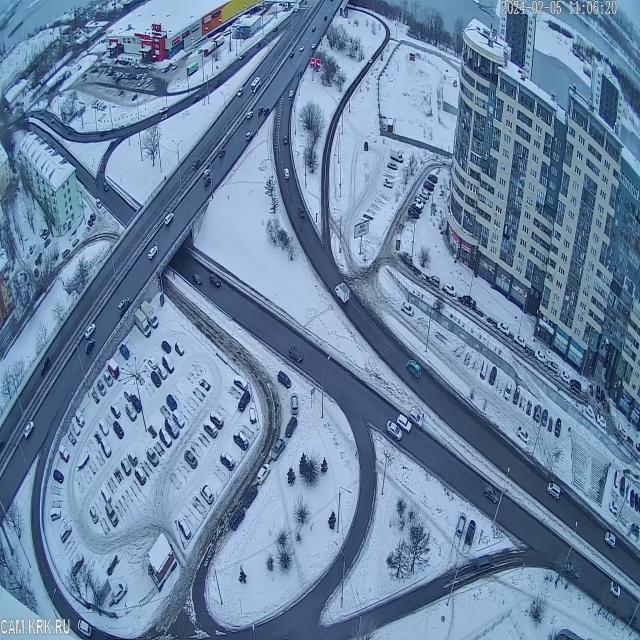car: (134, 308, 152, 339), (141, 301, 159, 330), (102, 500, 119, 530), (562, 557, 580, 582), (396, 410, 412, 437), (334, 280, 350, 307), (385, 420, 403, 443), (164, 413, 179, 440), (233, 428, 249, 453), (242, 484, 258, 509), (287, 342, 304, 365), (409, 406, 424, 432), (406, 356, 422, 380), (112, 582, 128, 606), (76, 616, 92, 640), (69, 552, 84, 577), (484, 481, 499, 506), (230, 508, 245, 532), (220, 450, 235, 473), (454, 512, 467, 538), (234, 370, 248, 394), (256, 463, 270, 487), (99, 483, 113, 507), (158, 428, 173, 450), (272, 439, 285, 464), (107, 357, 120, 382), (178, 517, 192, 540), (546, 479, 560, 502), (389, 144, 404, 165), (200, 482, 214, 504), (210, 409, 224, 431), (132, 465, 146, 487), (124, 401, 138, 423), (465, 518, 476, 546), (516, 423, 530, 445), (203, 420, 218, 440), (477, 551, 492, 571), (184, 449, 198, 470), (100, 436, 112, 460), (238, 391, 251, 413), (284, 418, 297, 440), (172, 408, 185, 430), (278, 370, 292, 390), (146, 448, 160, 468), (462, 293, 476, 312), (119, 458, 132, 478), (59, 524, 72, 544), (162, 354, 175, 374), (112, 421, 125, 441), (118, 296, 131, 316), (102, 368, 114, 389), (609, 579, 621, 600), (444, 279, 456, 300), (514, 331, 526, 352), (209, 271, 222, 290), (59, 444, 70, 466), (547, 356, 558, 378), (570, 374, 581, 396), (165, 392, 177, 412), (604, 530, 616, 550), (498, 318, 510, 338), (290, 392, 299, 418), (534, 345, 545, 366), (150, 370, 162, 389), (84, 322, 96, 341), (401, 301, 414, 318), (89, 505, 99, 527), (70, 418, 81, 438), (74, 409, 85, 429), (132, 394, 143, 414), (560, 366, 570, 388), (585, 401, 595, 423), (595, 411, 606, 431), (122, 385, 134, 403), (400, 250, 412, 268), (428, 272, 440, 290), (128, 448, 138, 469), (110, 401, 121, 420), (191, 271, 203, 288), (97, 378, 107, 398), (120, 341, 130, 361), (53, 468, 64, 486), (174, 340, 185, 358), (98, 419, 109, 437), (84, 338, 95, 356), (503, 380, 512, 402), (407, 207, 420, 222), (24, 421, 34, 440), (608, 497, 618, 516), (50, 506, 61, 523), (423, 178, 434, 195), (479, 357, 487, 380), (148, 354, 158, 372), (41, 356, 50, 376), (512, 386, 521, 406), (161, 339, 172, 355), (489, 365, 497, 387), (418, 186, 429, 202), (148, 244, 158, 261), (164, 210, 174, 227), (554, 417, 562, 438), (599, 386, 606, 410), (157, 365, 168, 380), (298, 202, 306, 222), (534, 400, 541, 422), (619, 421, 627, 440), (387, 158, 397, 173), (190, 159, 200, 173), (428, 171, 438, 185), (634, 492, 640, 514), (282, 165, 290, 181), (71, 237, 80, 251), (613, 470, 619, 491), (620, 474, 625, 499), (630, 485, 635, 510), (413, 198, 424, 209), (542, 408, 548, 428), (594, 384, 600, 404), (217, 146, 225, 160), (262, 104, 270, 118), (99, 160, 106, 175), (204, 167, 212, 180), (236, 87, 244, 100), (256, 105, 264, 118), (626, 481, 630, 506), (383, 178, 393, 188), (95, 197, 102, 211), (62, 248, 70, 260), (102, 183, 110, 195), (245, 130, 252, 143), (246, 110, 254, 121), (89, 213, 96, 225), (283, 130, 288, 146), (288, 88, 294, 100), (87, 218, 93, 229), (289, 50, 295, 60), (300, 44, 306, 54), (311, 42, 315, 50)
